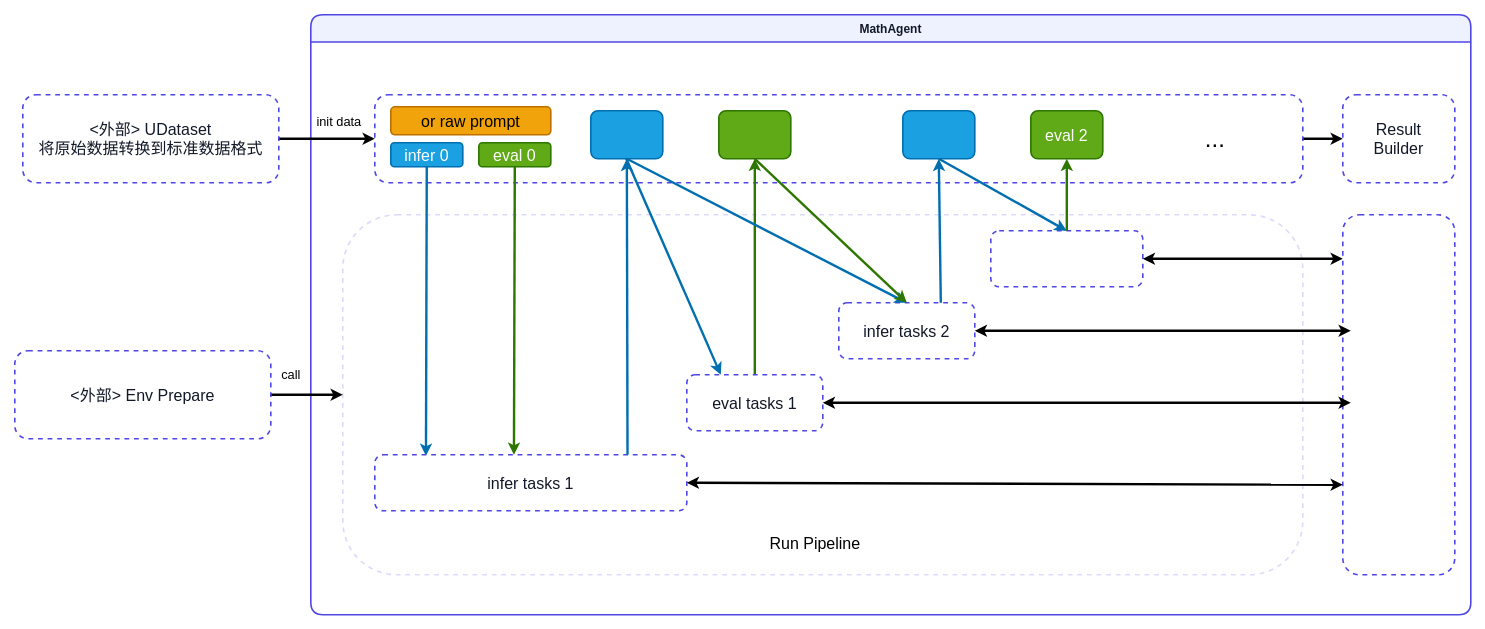
Some shapes in this 1485 by 629 pixel diagram are drawn without their labels. Each missing label, with the box of its shape:
DataPool: (374, 94, 1303, 183)
eval 1: (718, 110, 791, 159)
eval tasks 2: (990, 230, 1143, 287)
infer 1: (590, 110, 663, 159)
infer 2: (902, 110, 975, 159)
LLM Helper: (1342, 214, 1455, 575)
